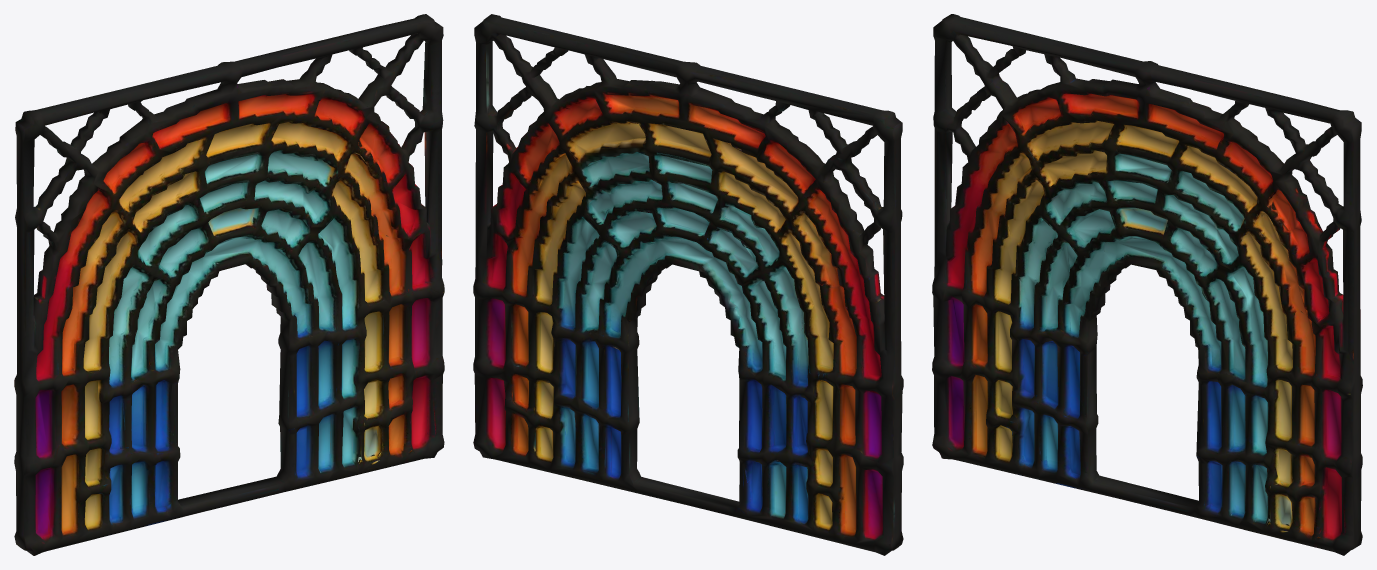
File: vitrail-rainbow.glb
3 views of the same model, side by side, from view 1: azimuth 30°, elevation 25°; view 2: azimuth 150°, elevation 25°; view 3: azimuth 330°, elevation 25° (orthographic).
Visible parts, largest first — view 1: material; view 2: material; view 3: material.
Part boxes in pixels (x1,y1,x2,y2): material: (14, 14, 444, 555); material: (473, 14, 903, 555); material: (932, 14, 1362, 555).
Size of the model in its own units: 0.8668 by 0.8657 by 0.0493.
1 material, 1 textured.
